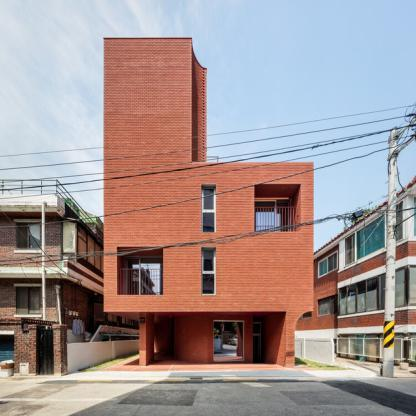Balcony: (120, 268, 163, 294), (255, 207, 297, 232)
Building Outline: (104, 37, 313, 366)
Dont: (0, 103, 416, 377)
Door: (124, 255, 139, 295), (276, 199, 290, 232), (253, 321, 261, 363)
Door Hole: (147, 311, 287, 366), (117, 247, 163, 295), (255, 185, 301, 233)
Facade: (104, 162, 313, 366)
Floor: (104, 163, 313, 233), (104, 237, 313, 295), (104, 98, 192, 158)
Floor Slab: (104, 232, 313, 237), (104, 295, 313, 299), (104, 158, 192, 162), (104, 94, 192, 98)
Glass Wall: (214, 320, 244, 360), (141, 255, 163, 295), (255, 202, 275, 232)
Ground Floor: (139, 299, 295, 366)
Pillar: (140, 313, 147, 366)
Top Floor: (104, 38, 192, 94)
Window: (201, 249, 216, 295), (201, 187, 216, 232)
Window Hole: (201, 185, 216, 233), (201, 246, 216, 294)
